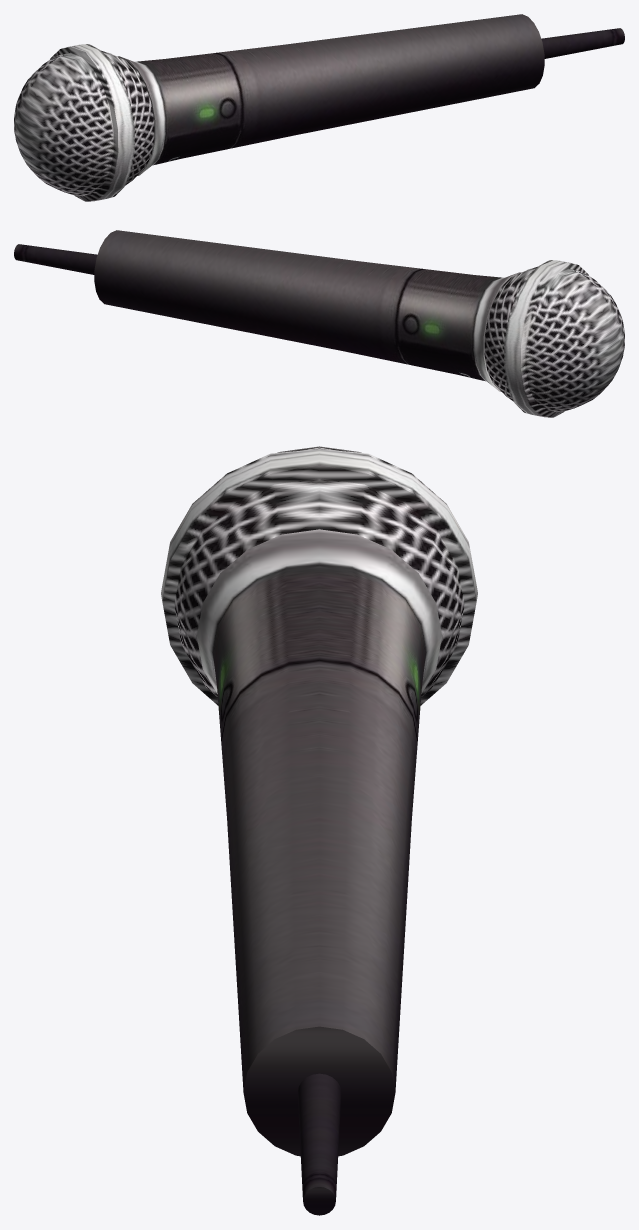
File: microfoon.fbx
The picture shows the model from 3 angles, top to bottom: view 1: azimuth 30°, elevation 25°; view 2: azimuth 150°, elevation 25°; view 3: azimuth 270°, elevation 25°; orthographic projection. The views are drawn at different scales.
Visible parts, largest first — view 1: pSphere2; view 2: pSphere2; view 3: pSphere2.
Boxes of the visible parts, x1,y1,x2,y2 form: pSphere2: (14, 14, 624, 201); pSphere2: (14, 230, 624, 417); pSphere2: (161, 446, 477, 1215).
Bounding box in the file's own units: 20.07 × 4.6 × 4.61.
